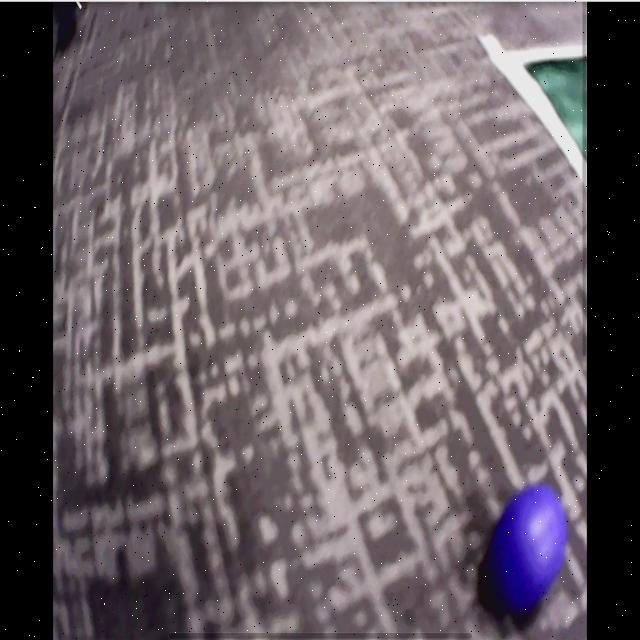ball: (495, 485, 570, 614)
